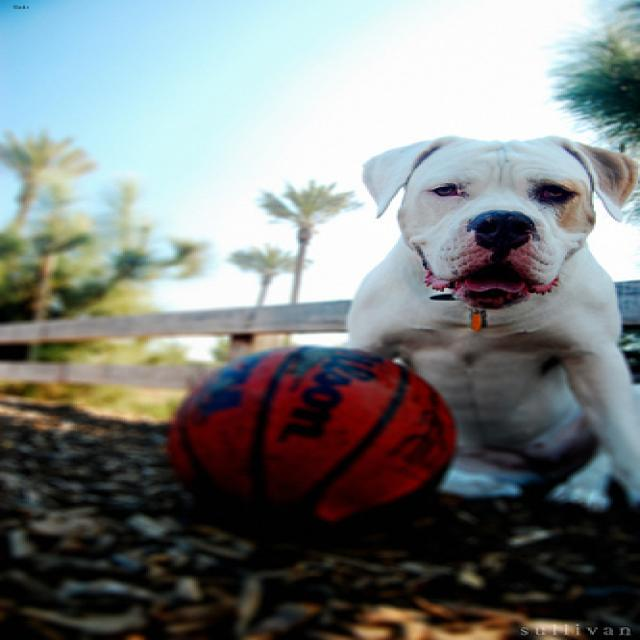dog-american_bulldog: (323, 120, 636, 531)
